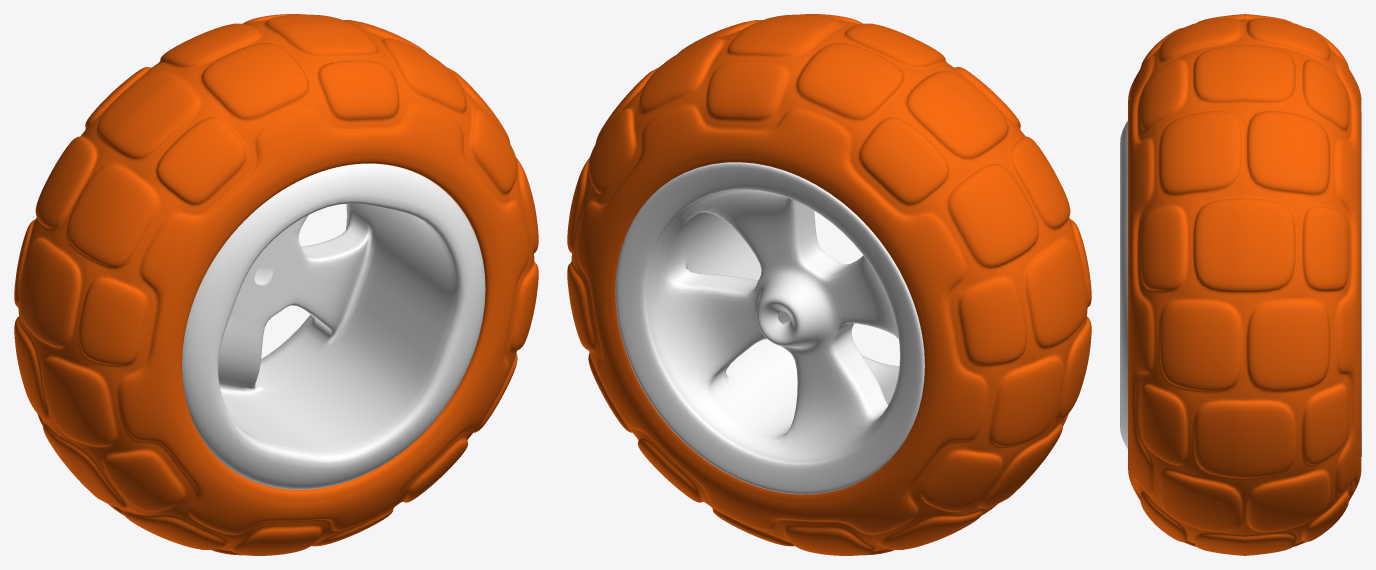
File: Kids Truck_Tire.fbx
3 views of the same model, side by side, from view 1: azimuth 30°, elevation 25°; view 2: azimuth 150°, elevation 25°; view 3: azimuth 270°, elevation 25° (orthographic). The views are drawn at different scales.
Visible parts, largest first — view 1: pokrishka_04_; view 2: pokrishka_04_; view 3: pokrishka_04_.
Boxes of the visible parts, x1,y1,x2,y2 form: pokrishka_04_: [14, 14, 538, 555]; pokrishka_04_: [567, 14, 1091, 555]; pokrishka_04_: [1120, 14, 1361, 555].
Bounding box in the file's own units: 4.57 × 10.22 × 10.22.
